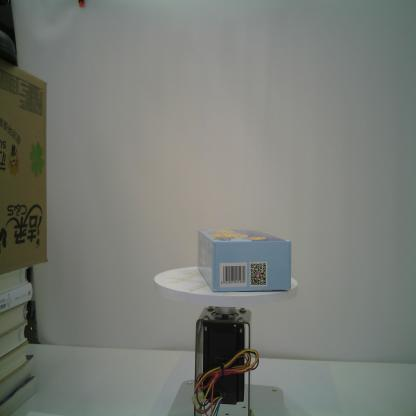Dessert: (198, 228, 291, 292)
